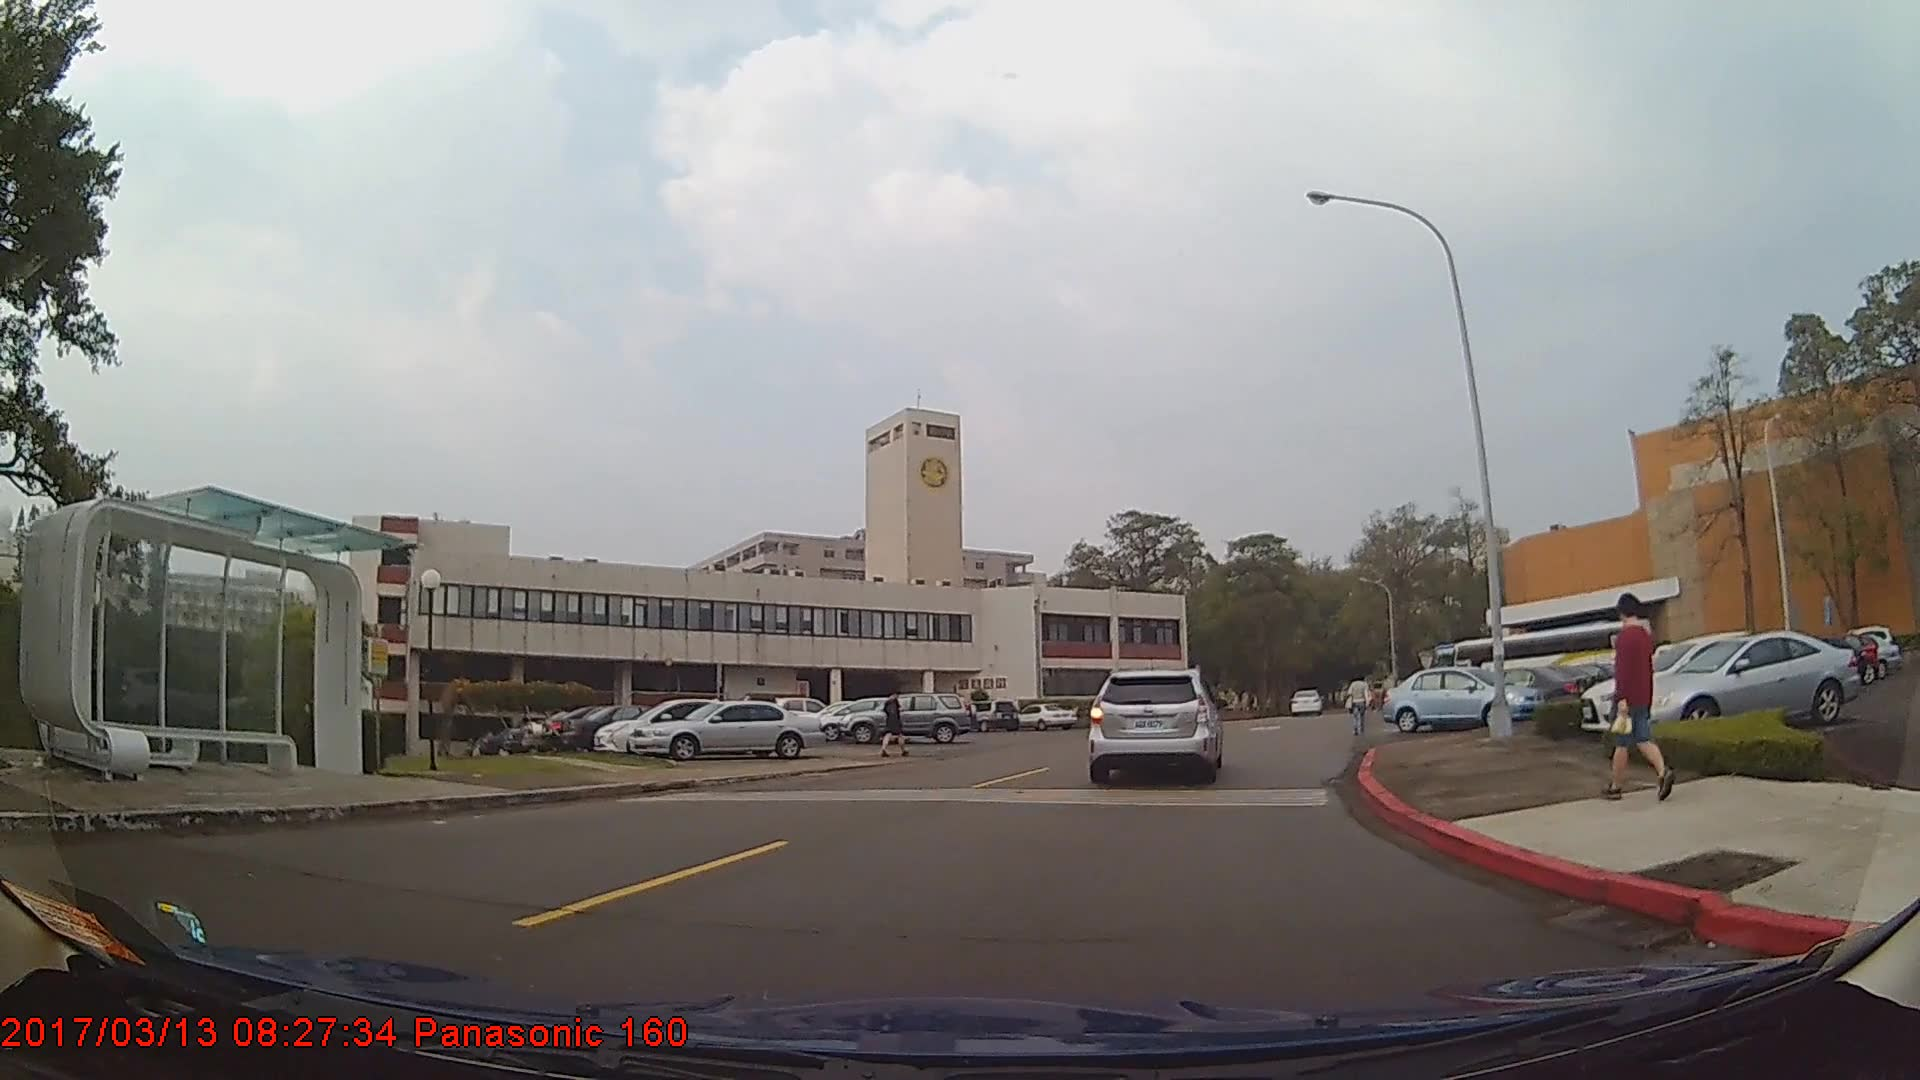pedestrian: (1606, 593, 1676, 807), (879, 689, 910, 760), (1346, 670, 1373, 738)
vehicle: (1577, 632, 1817, 733), (1628, 629, 1862, 731), (1090, 667, 1220, 786), (627, 699, 827, 760), (1377, 664, 1545, 732), (592, 697, 786, 756), (560, 703, 701, 756), (840, 691, 971, 743), (1009, 700, 1077, 731), (959, 698, 1020, 731), (1289, 686, 1323, 717)
